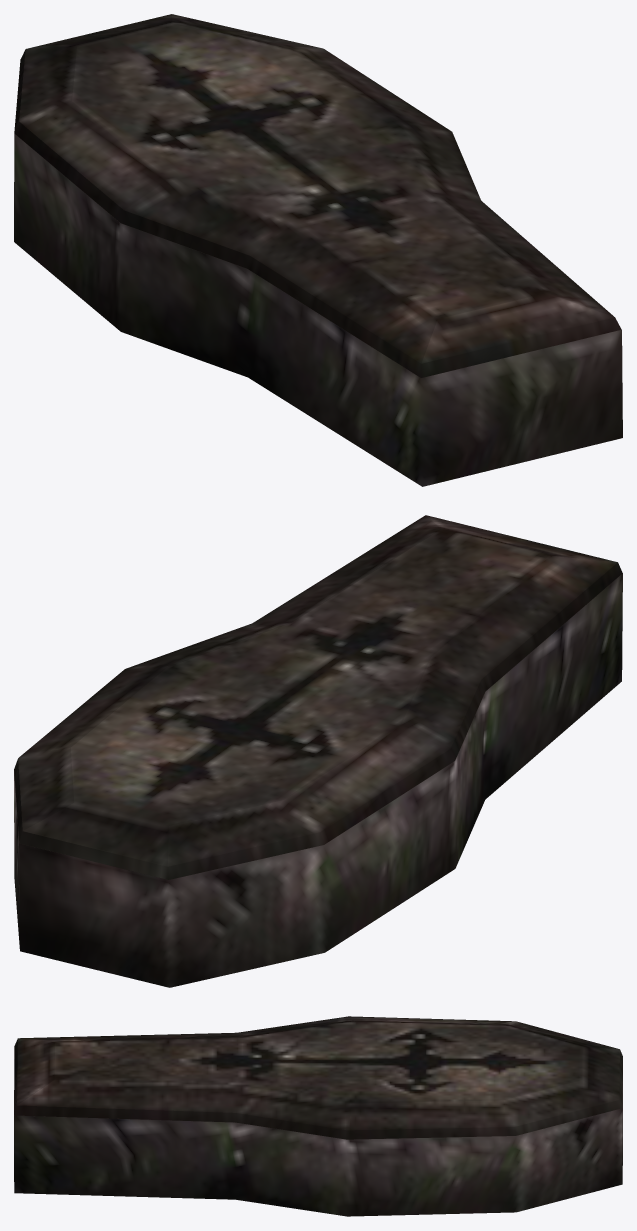
3 views of the same model, one above another, from view 1: azimuth 30°, elevation 25°; view 2: azimuth 150°, elevation 25°; view 3: azimuth 270°, elevation 25° (orthographic). The views are drawn at different scales.
Parts seen in each view (by area): view 1: wj92; view 2: wj92; view 3: wj92.
Part boxes in pixels (box(x1,y1,x2,y2)): wj92: box(14, 14, 622, 486); wj92: box(14, 515, 622, 987); wj92: box(14, 1016, 622, 1216).
Bounding box in the file's own units: 247 × 95.92 × 547.
